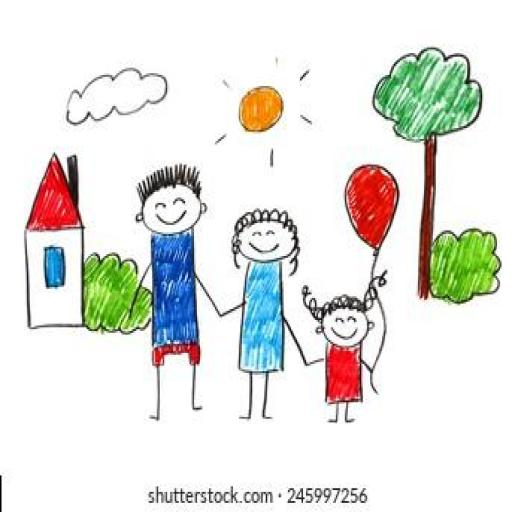person: (126, 157, 217, 424), (216, 206, 308, 424), (301, 278, 393, 430)
